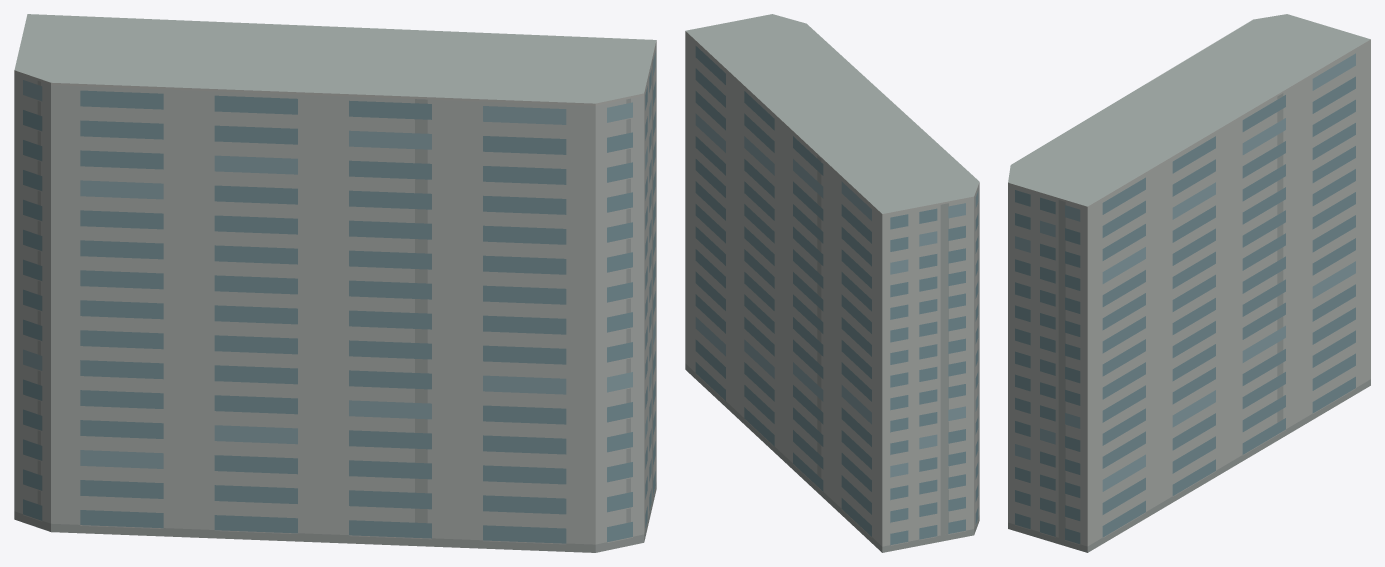
Rendered from residential-d86224d4-5087-43a4-83e1-7867964ddca0.glb.
The picture shows the model from 3 angles, left to right: view 1: azimuth 30°, elevation 25°; view 2: azimuth 150°, elevation 25°; view 3: azimuth 270°, elevation 25°; orthographic projection. The views are drawn at different scales.
Parts seen in each view (by area): view 1: residential-d86224d4-5087-43a4-83e1-7867964ddca0.tmp; view 2: residential-d86224d4-5087-43a4-83e1-7867964ddca0.tmp; view 3: residential-d86224d4-5087-43a4-83e1-7867964ddca0.tmp.
Part boxes in pixels (x1=…): residential-d86224d4-5087-43a4-83e1-7867964ddca0.tmp: x1=14, y1=14, x2=656, y2=552; residential-d86224d4-5087-43a4-83e1-7867964ddca0.tmp: x1=685, y1=14, x2=979, y2=552; residential-d86224d4-5087-43a4-83e1-7867964ddca0.tmp: x1=1008, y1=14, x2=1370, y2=552.
Size of the model in its own units: 54.62 by 45.75 by 43.47.
